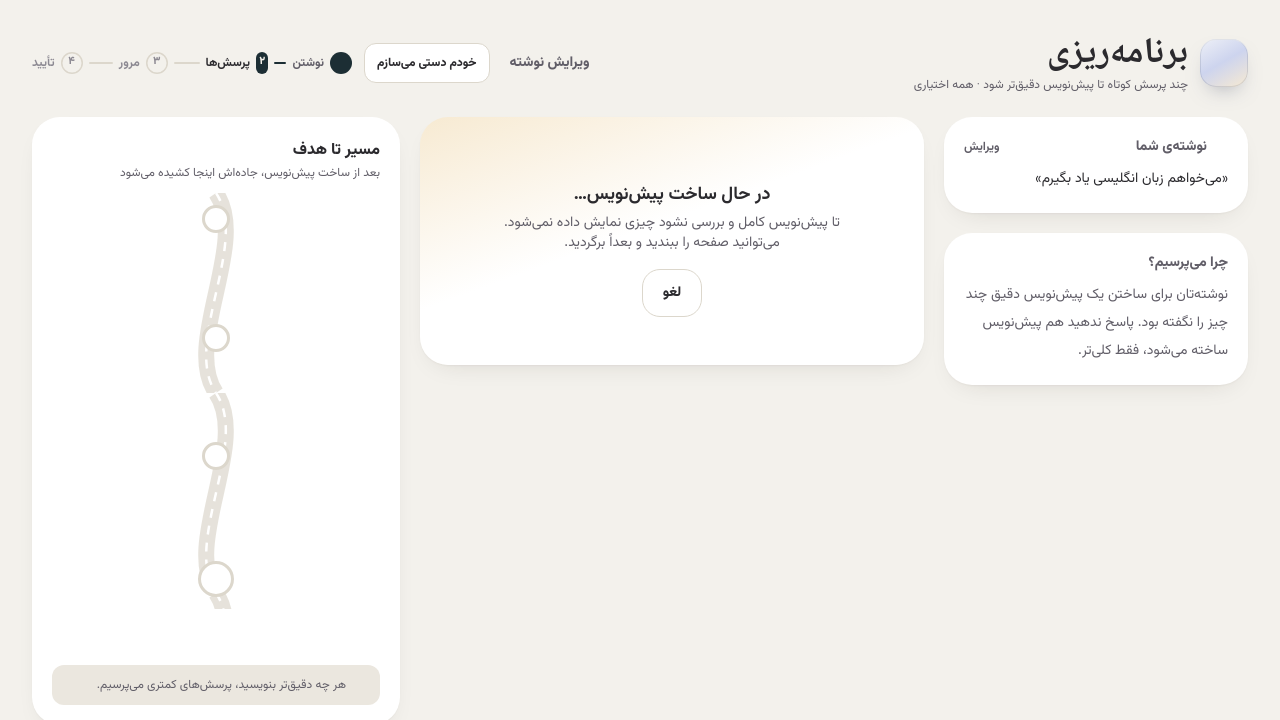
PlanningPage › resumes a running attempt by id and shows a cancellation as cancelled, not as a failure
Expected: the text "در حال ساخت پیش‌نویس…" is shown, x1=574 y1=181 x2=770 y2=209
Step 1. Click the button "لغو" → click(672, 293), box x1=642 y1=269 x2=702 y2=317
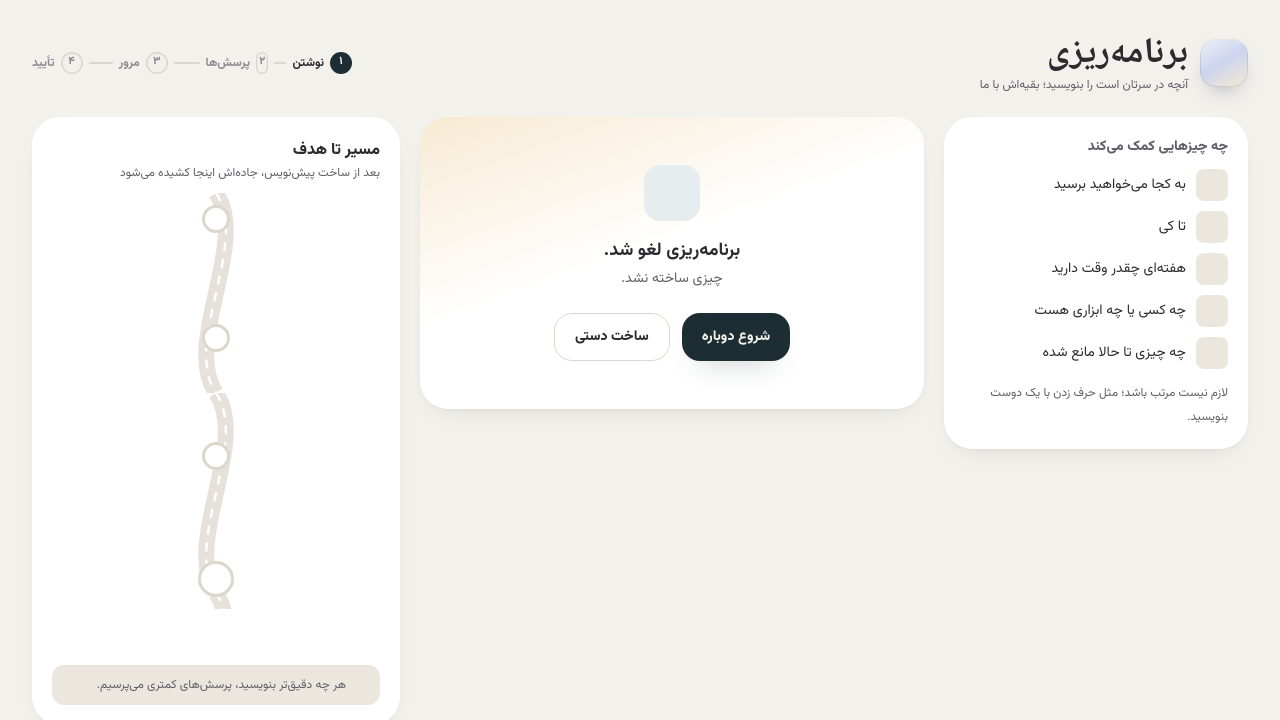
Now the text "برنامه‌ریزی لغو شد." is shown, box x1=604 y1=237 x2=740 y2=265
Now the text "چیزی ساخته نشد." is shown, box x1=621 y1=269 x2=723 y2=289
